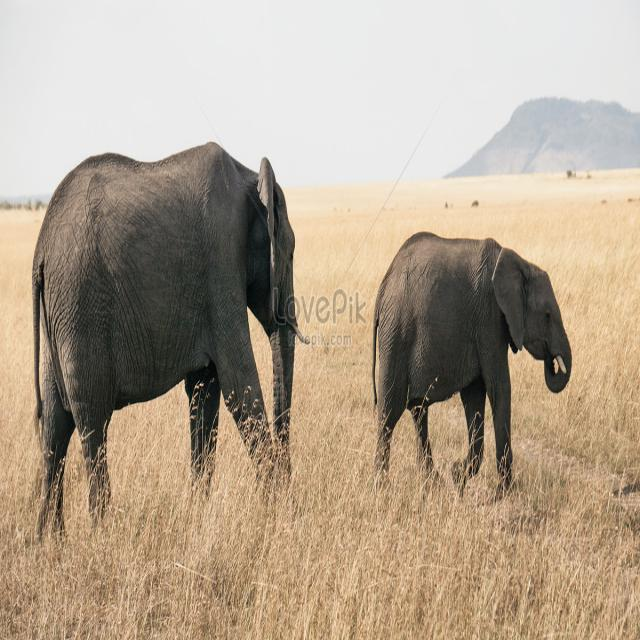Elephant: (13, 140, 316, 499), (368, 225, 585, 507)
